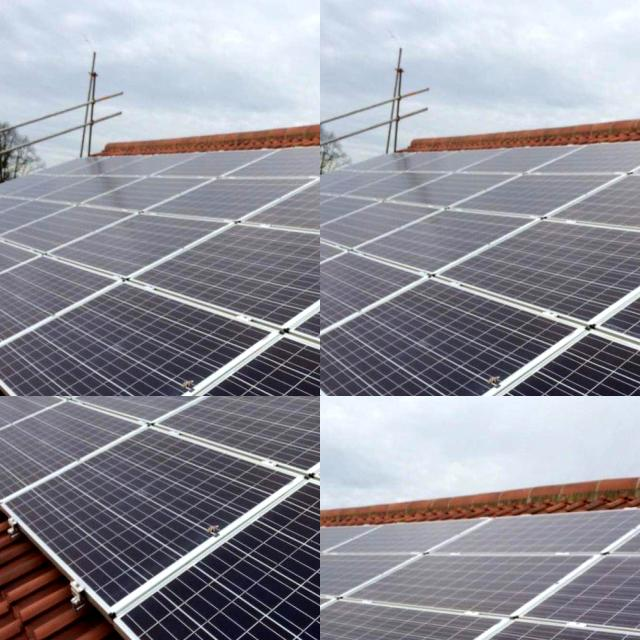crack: (350, 524, 603, 630), (389, 572, 640, 640), (320, 569, 509, 640), (320, 574, 423, 640)
panel: (8, 396, 97, 421), (184, 396, 251, 424), (155, 396, 222, 420), (147, 396, 199, 422), (111, 396, 138, 426), (241, 396, 267, 412), (83, 396, 120, 405), (0, 396, 8, 413)
shadow: (0, 71, 21, 102)
